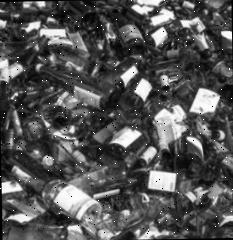glass: (7, 158, 102, 228), (34, 60, 119, 112), (111, 8, 148, 60), (188, 80, 222, 123)
